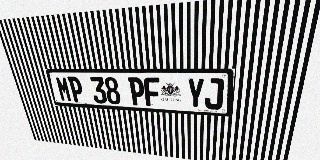3: (90, 77, 107, 104)
8: (104, 77, 121, 104)
F: (143, 77, 161, 107)
J: (204, 78, 224, 110)
M: (55, 76, 73, 102)
P: (128, 77, 145, 106), (67, 76, 85, 102)
Y: (187, 78, 205, 109)
